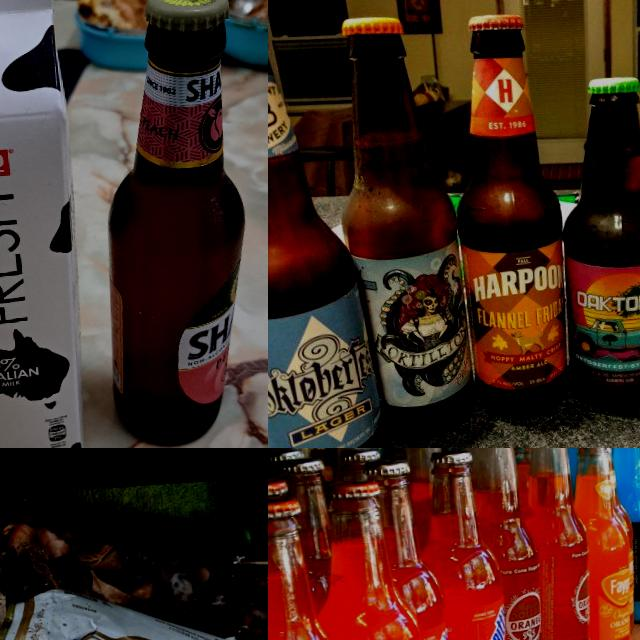caixinha: (0, 0, 95, 448)
garrafa de vidro: (83, 0, 259, 448), (324, 11, 478, 444), (268, 4, 392, 448), (446, 8, 573, 420), (550, 73, 640, 415), (304, 478, 434, 640), (413, 448, 514, 640), (512, 448, 599, 640), (368, 455, 458, 640), (467, 448, 548, 640), (561, 448, 637, 640), (268, 495, 358, 640), (605, 448, 640, 624)
lata: (0, 567, 268, 640)
